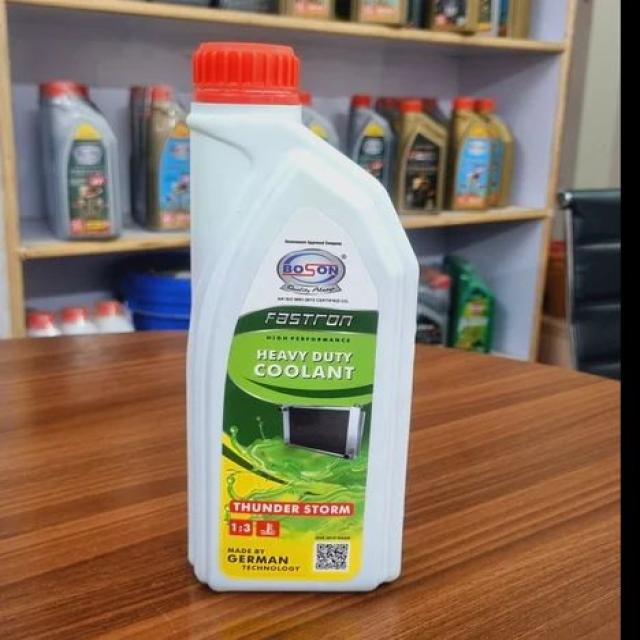coolant: (174, 33, 411, 601)
